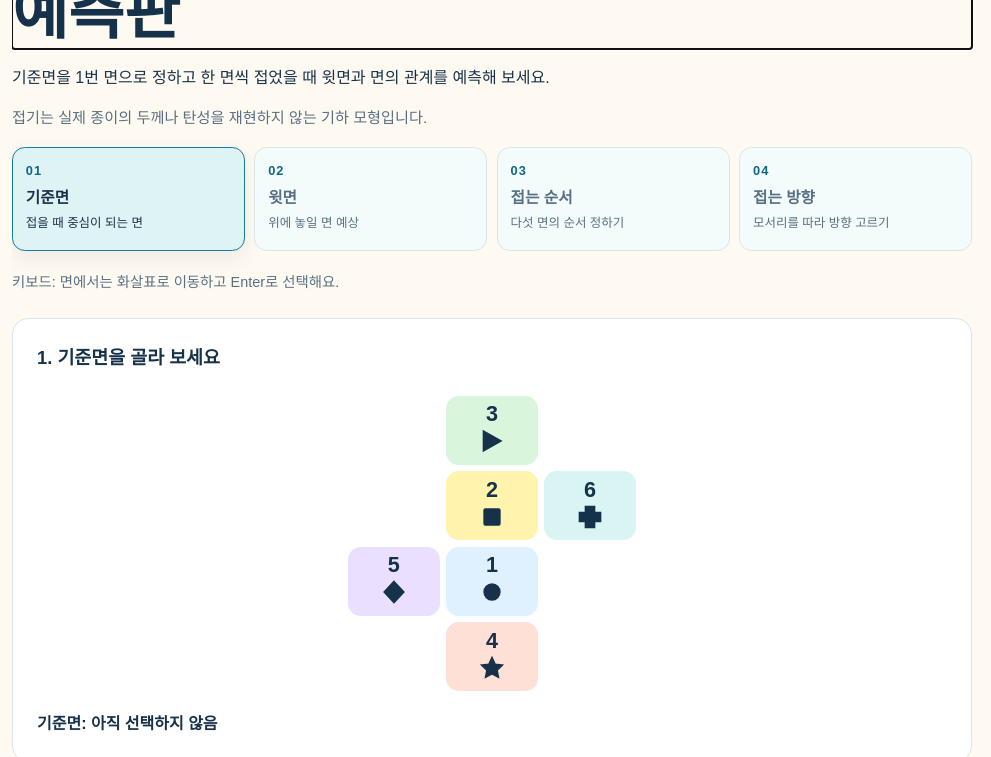
Test: PredictionScreen › selects a base face with the keyboard and keeps incomplete predictions blocked
Click the button named "1번 면, 파란색, 원형" at (492, 581), box [446, 547, 538, 616]
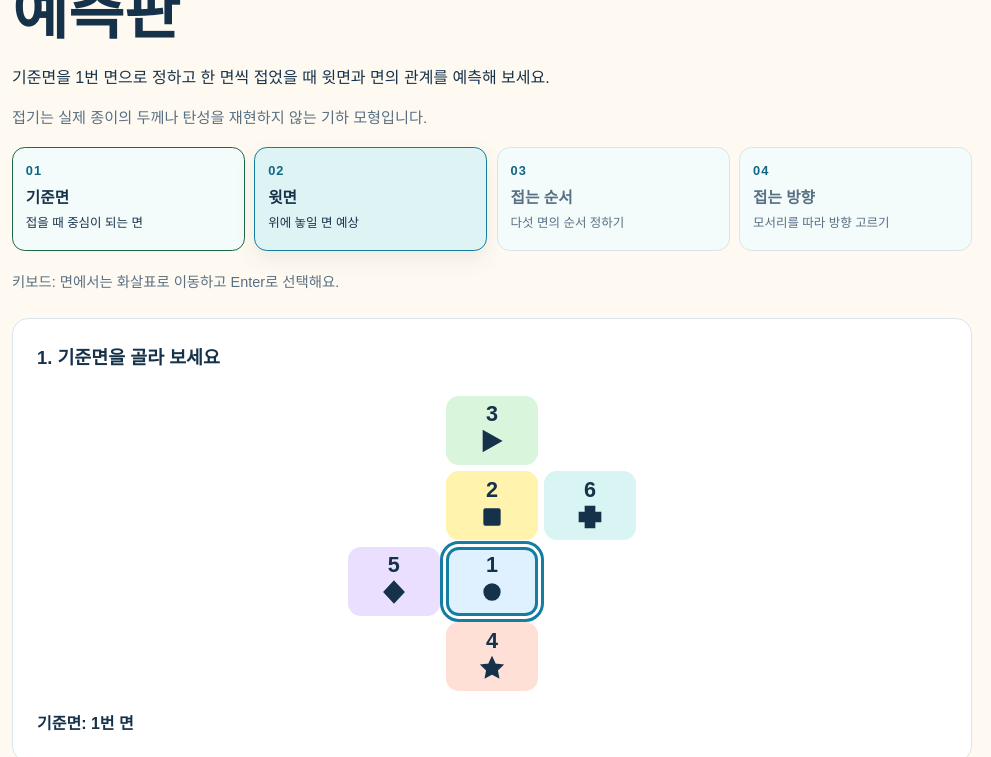
Press Arrowup Enter
(page scrolled)
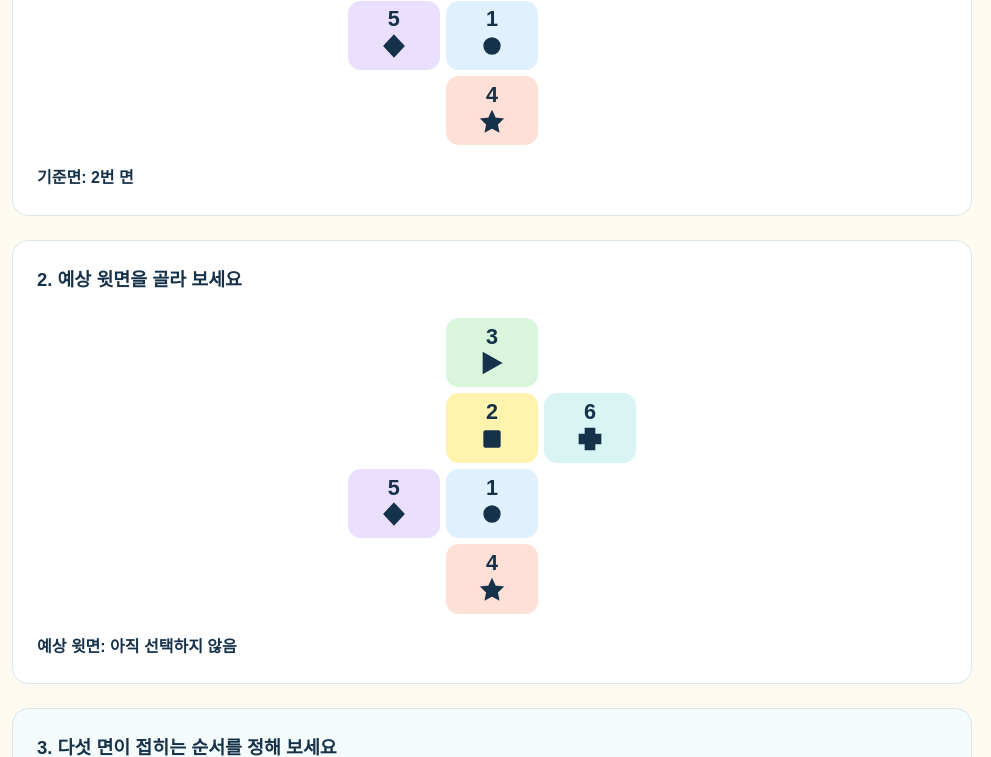
Now the text "기준면: 2번 면" is shown, box [37, 170, 134, 186]
Click the button "3" at (492, 352), box [446, 318, 538, 387]
(page scrolled)
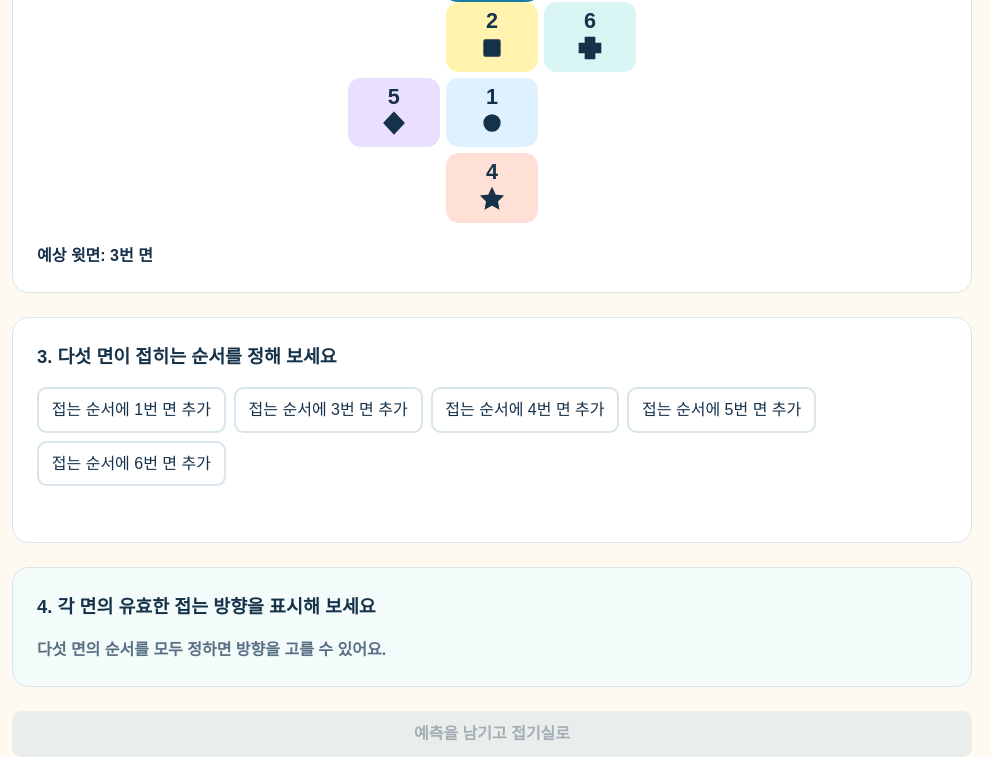
Now the text "예상 윗면: 3번 면" is shown, box [37, 247, 153, 264]
Click the button "접는 순서에 3번 면 추가" at (328, 410), box [234, 387, 423, 433]
(page scrolled)
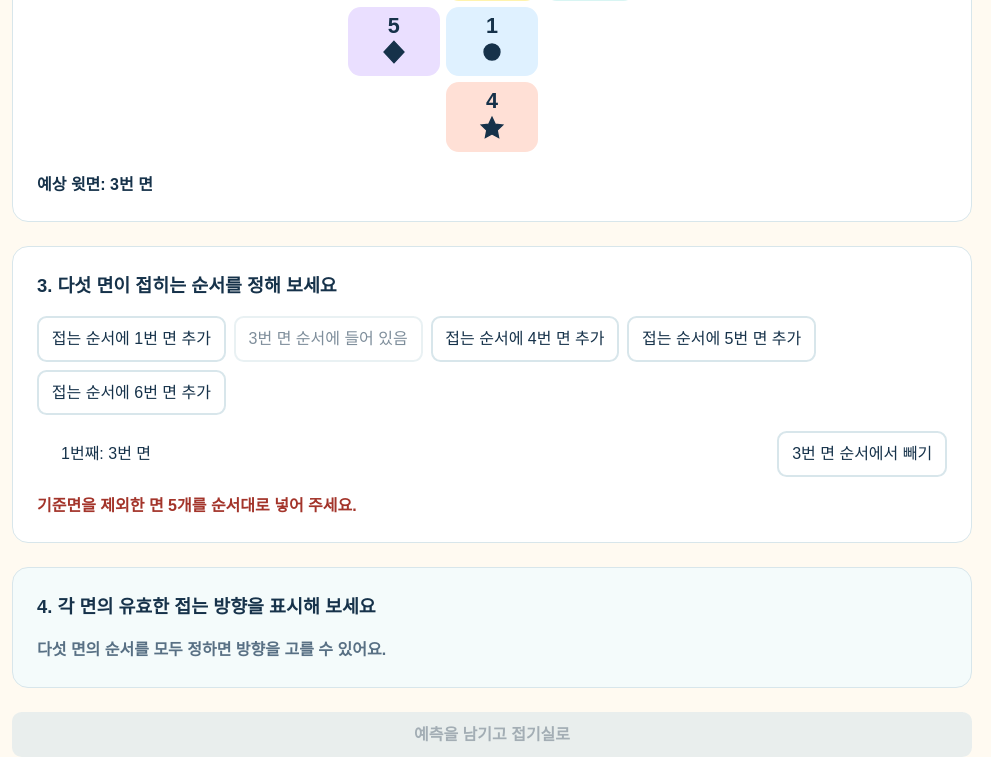
Expected: the button "예측을 남기고 접기실로" is disabled, [12, 712, 972, 756]
Now the list named "예측한 접는 순서" shows "3번 면", box [37, 431, 947, 477]
